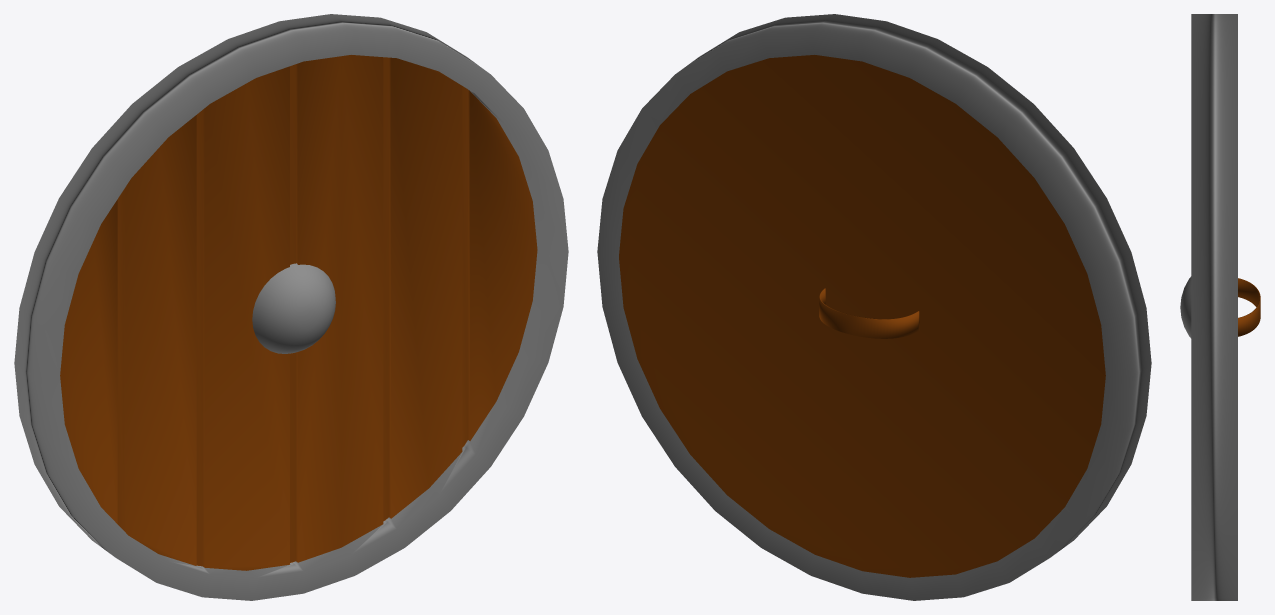
File: Shield.fbx
3 views of the same model, side by side, from view 1: azimuth 30°, elevation 25°; view 2: azimuth 150°, elevation 25°; view 3: azimuth 270°, elevation 25° (orthographic). The views are drawn at different scales.
Visible parts, largest first — view 1: Cylinder.007; view 2: Cylinder.007; view 3: Cylinder.007.
Boxes of the visible parts, x1,y1,x2,y2 form: Cylinder.007: (14,14,568,600); Cylinder.007: (597,14,1151,600); Cylinder.007: (1180,14,1260,600).
Bounding box in the file's own units: 352 × 352 × 48.1.
